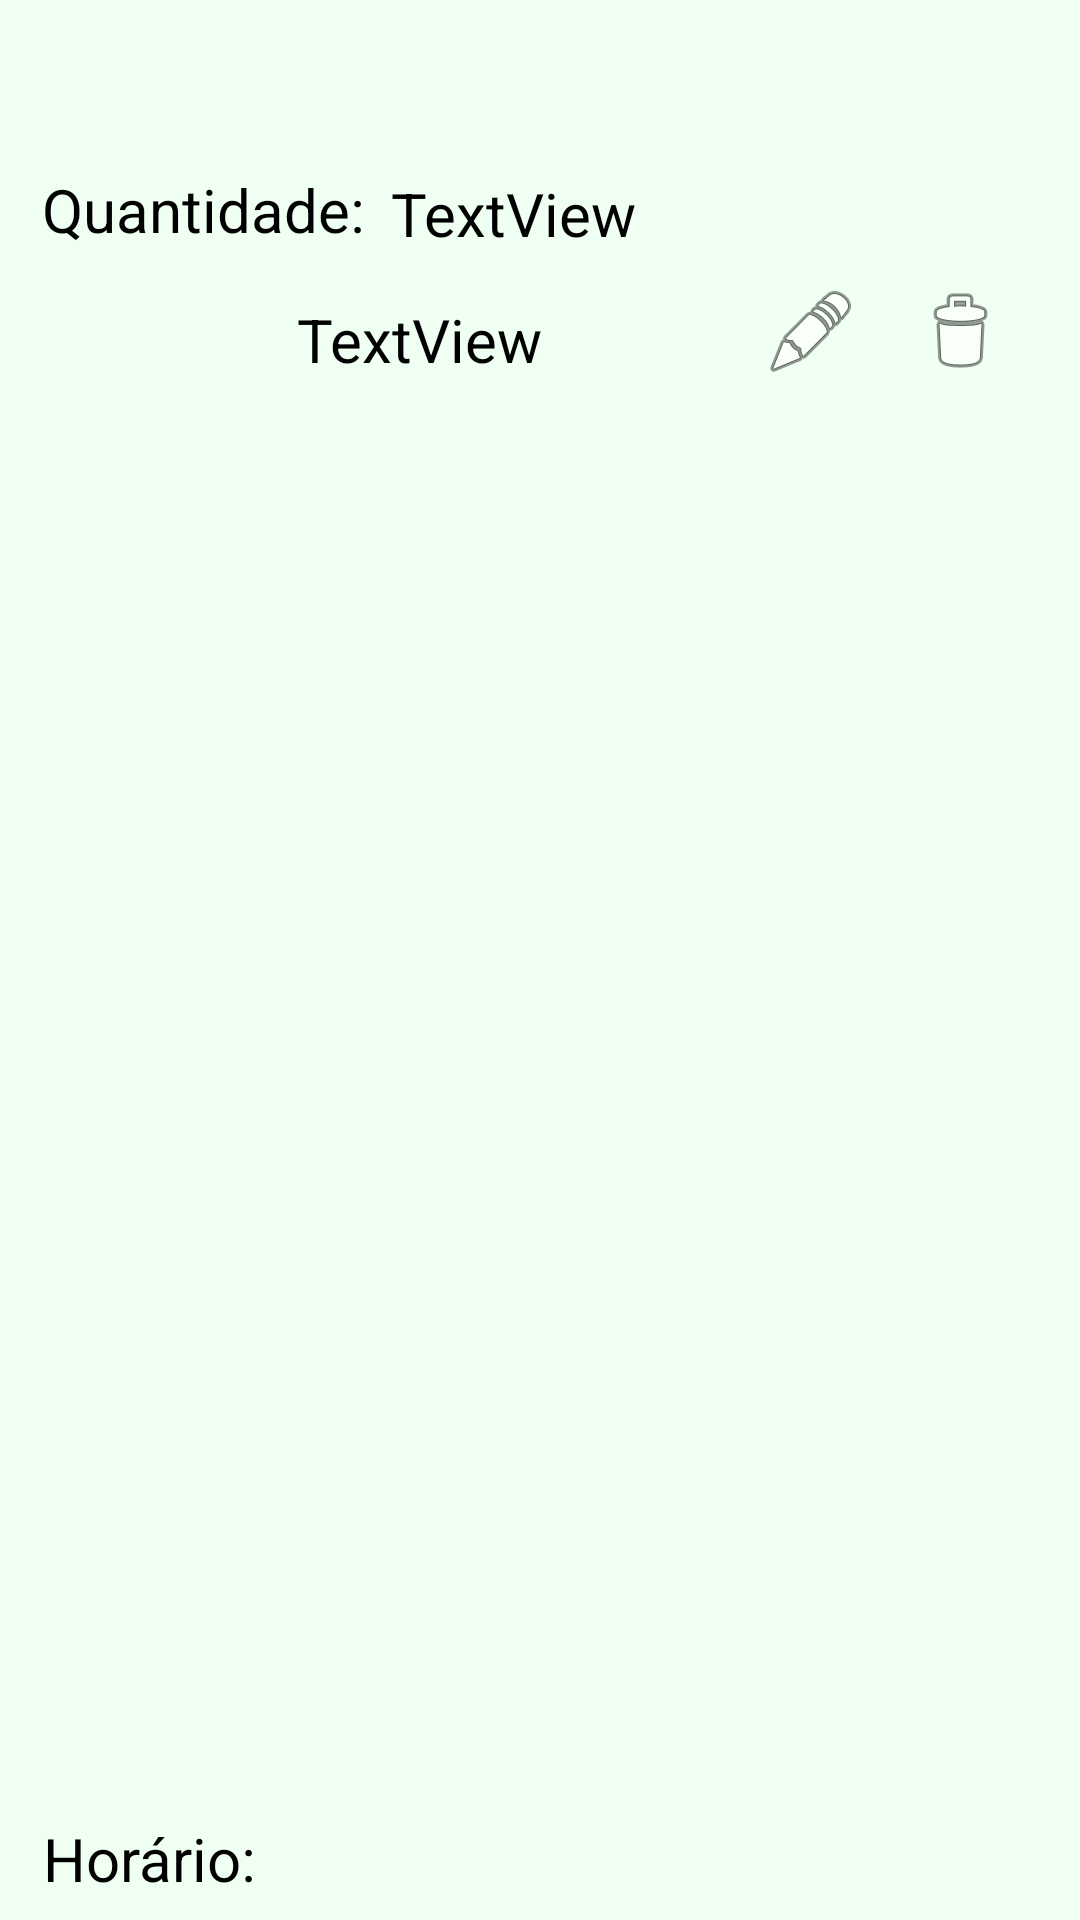

Where to tap for icons on this 1080px×1920px app screen, as (x=x, y=y):
delete: (x=960, y=330)
edit: (x=810, y=331)
